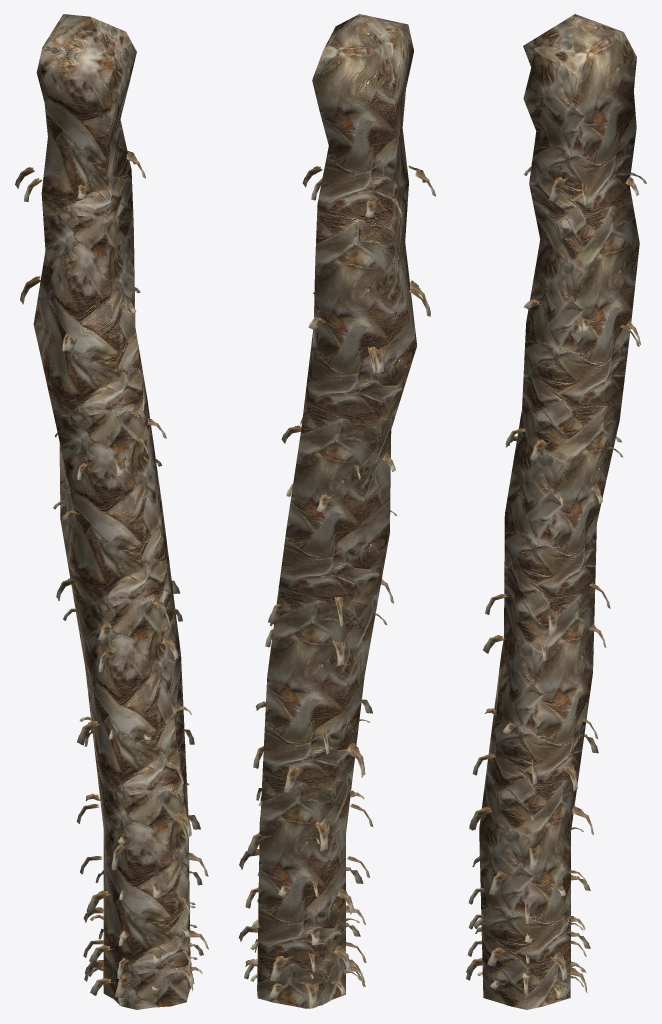
File: trunk5.obj
3 renders of one model, left to right at view 1: azimuth 30°, elevation 25°; view 2: azimuth 210°, elevation 25°; view 3: azimuth 270°, elevation 25°, orthographic. The views are drawn at different scales.
Parts seen in each view (by area): view 1: palm07, barkpalm; view 2: palm07, barkpalm; view 3: palm07, barkpalm.
Boxes of the visible parts, x1,y1,x2,y2 form: palm07: [33, 14, 190, 1009]; barkpalm: [15, 150, 208, 1006]; palm07: [257, 14, 416, 1008]; barkpalm: [238, 165, 435, 1008]; palm07: [479, 14, 639, 1009]; barkpalm: [466, 163, 646, 998].
Size of the model in its own units: 39.92 by 245 by 42.3.
2 materials, 2 textured.
